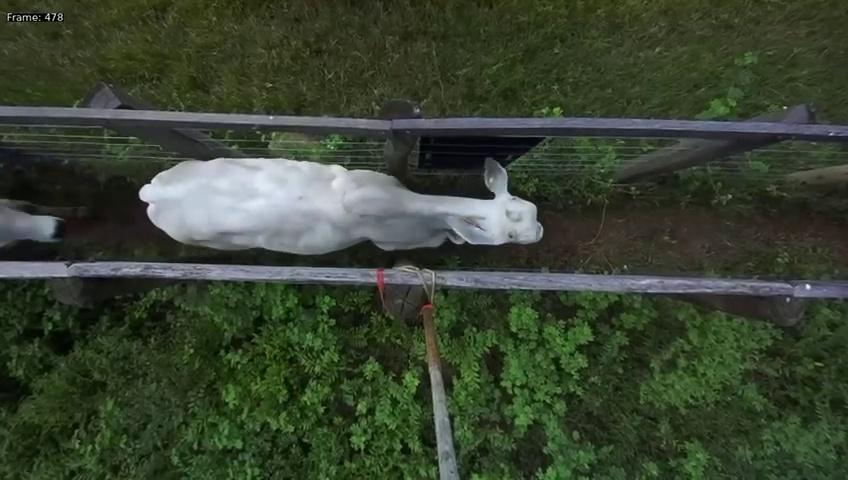cattle: (135, 133, 544, 256)
